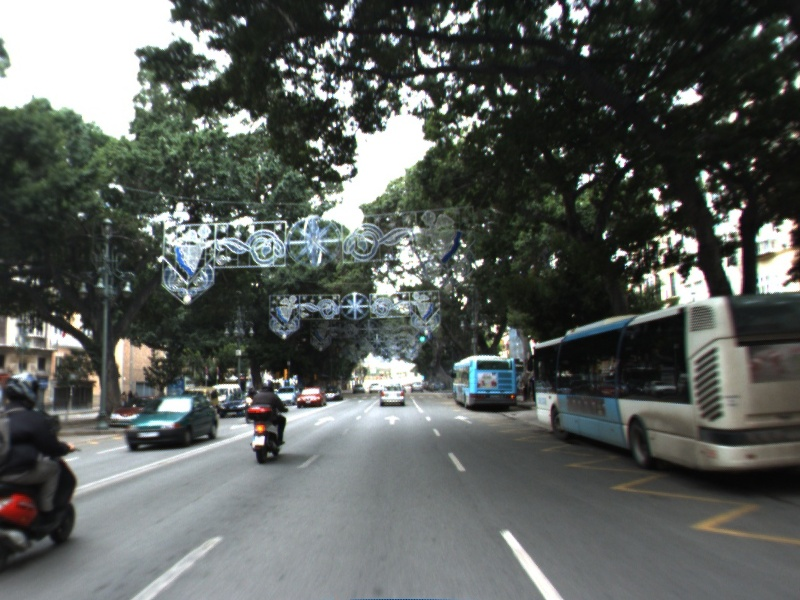STRAIGHT: (312, 414, 337, 427), (452, 413, 475, 426), (382, 413, 403, 426)
